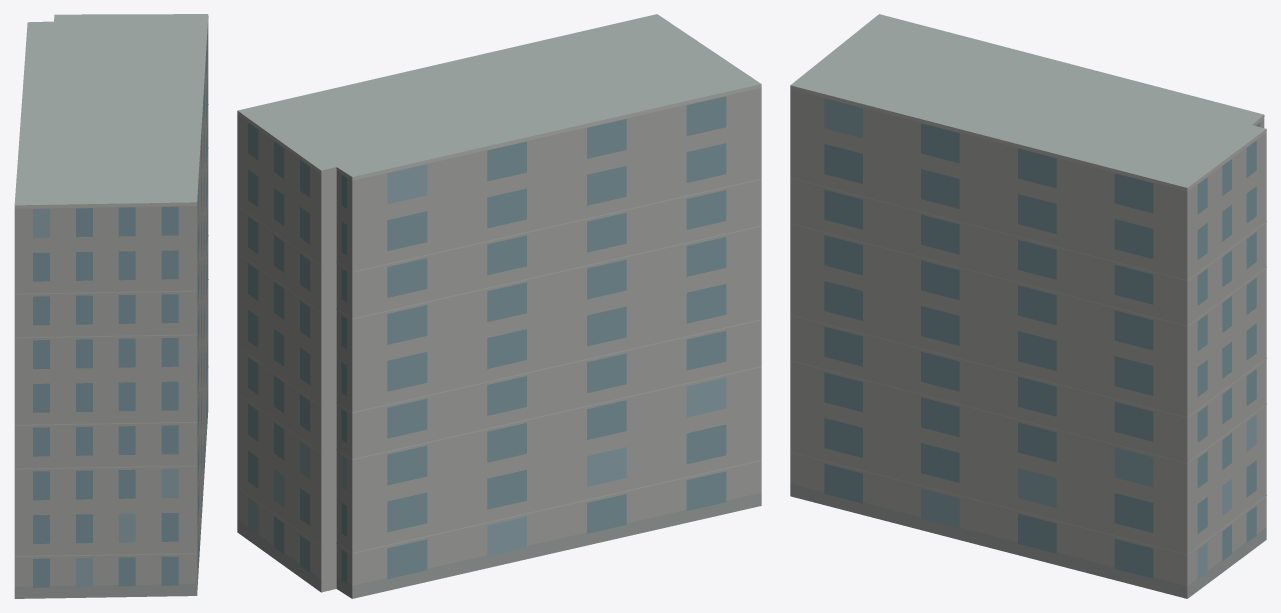
The model's file is survey-upis-32908898.glb.
The picture shows the model from 3 angles, left to right: view 1: azimuth 30°, elevation 25°; view 2: azimuth 150°, elevation 25°; view 3: azimuth 270°, elevation 25°; orthographic projection. The views are drawn at different scales.
Parts seen in each view (by area): view 1: survey-upis-32908898.tmp; view 2: survey-upis-32908898.tmp; view 3: survey-upis-32908898.tmp.
Part boxes in pixels (bbox=[...]): survey-upis-32908898.tmp: bbox=[14, 14, 208, 598]; survey-upis-32908898.tmp: bbox=[237, 14, 761, 598]; survey-upis-32908898.tmp: bbox=[790, 14, 1266, 598].
Bounding box in the file's own units: 24.94 × 27.45 × 28.86.
